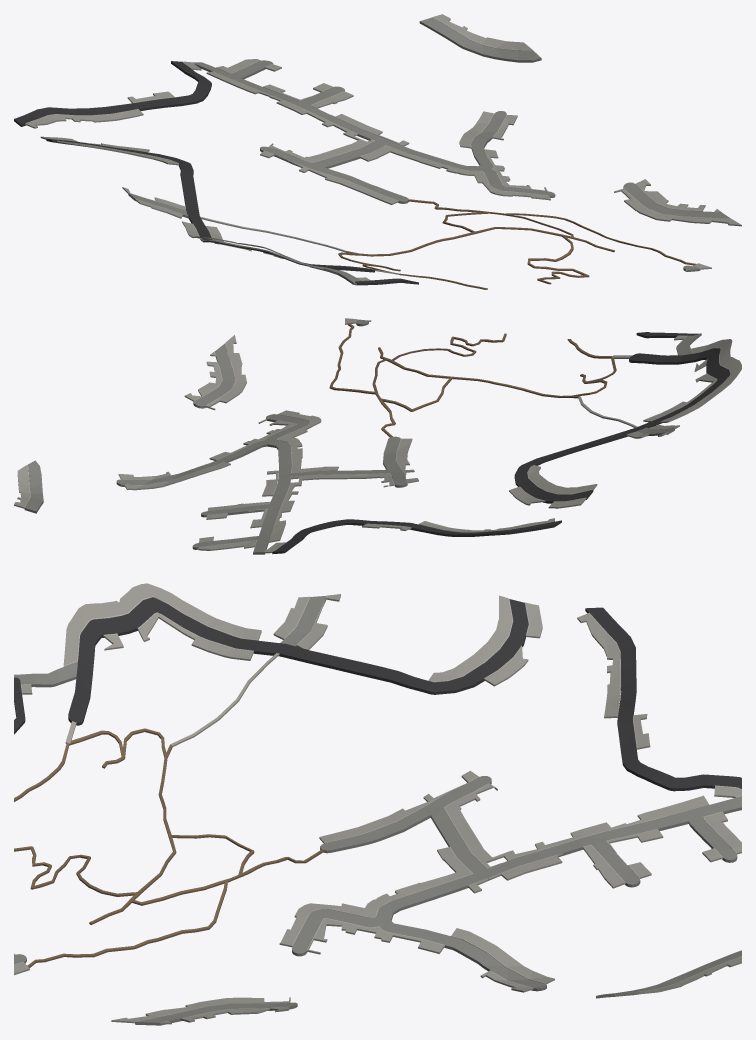
3 views of the same model, one above another, from view 1: azimuth 30°, elevation 25°; view 2: azimuth 150°, elevation 25°; view 3: azimuth 270°, elevation 25° (orthographic). The views are drawn at different scales.
Size of the model in its own units: 293 by 62.36 by 292.
